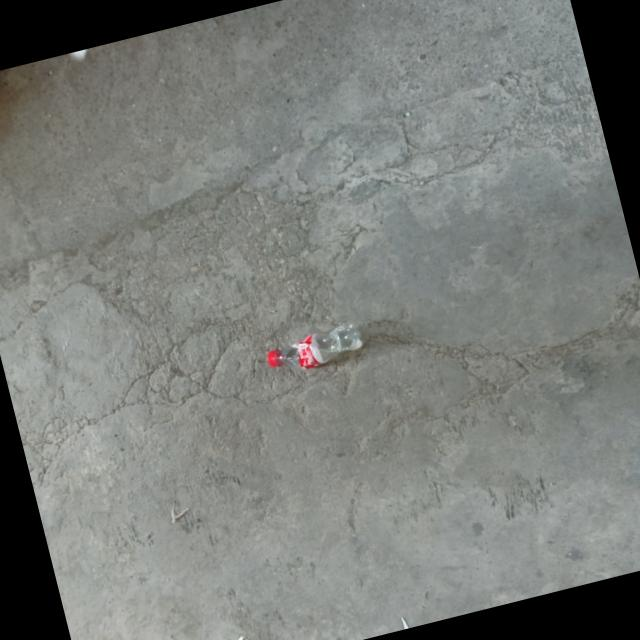Bottle: (266, 322, 361, 369)
